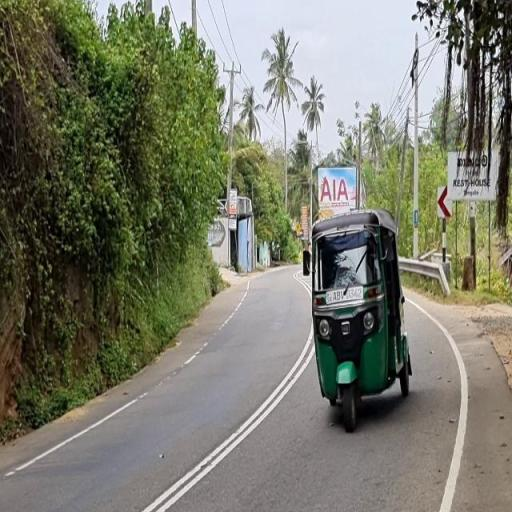double_white_line: (142, 334, 310, 510)
